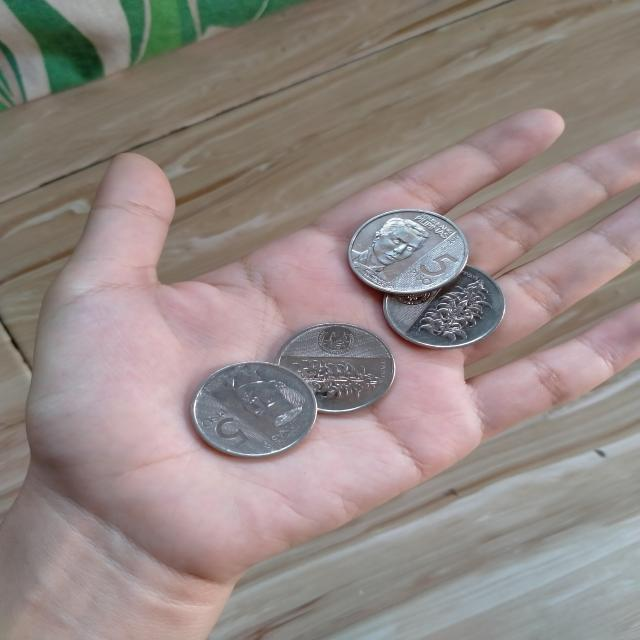5_New_Back: (417, 272, 497, 342), (279, 354, 380, 404)
5_New_Front: (396, 246, 458, 289), (199, 406, 257, 451)
